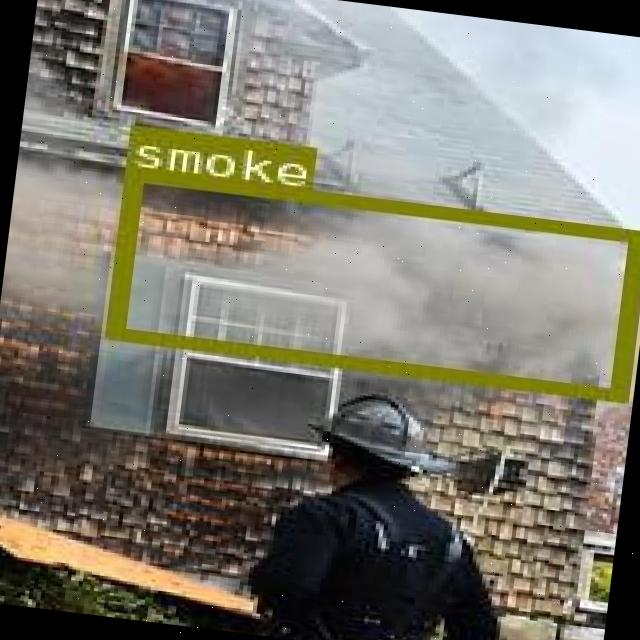smoke: (102, 165, 640, 399)
